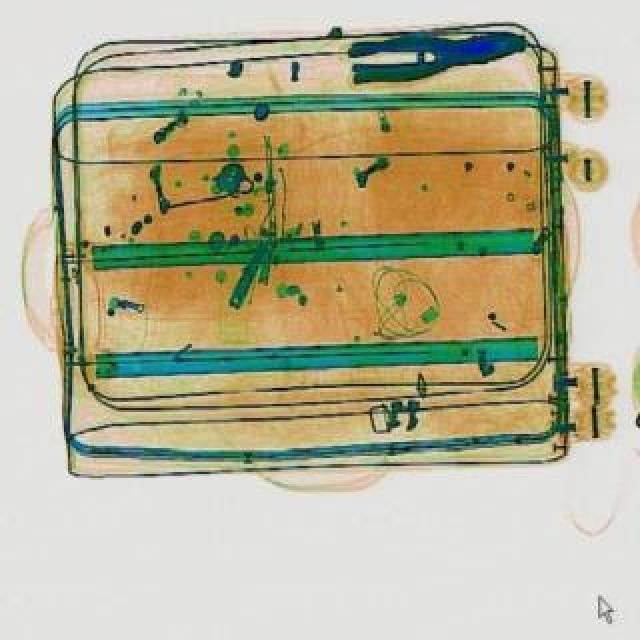wrench: (346, 20, 530, 84)
